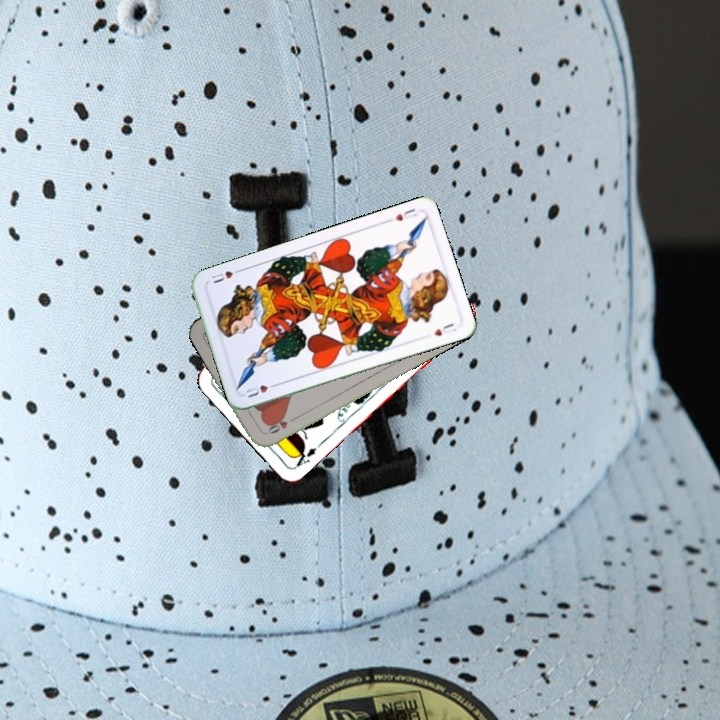EA: (289, 439, 324, 471)
HO: (261, 413, 299, 437)
HU: (241, 379, 281, 400), (390, 204, 419, 224)
